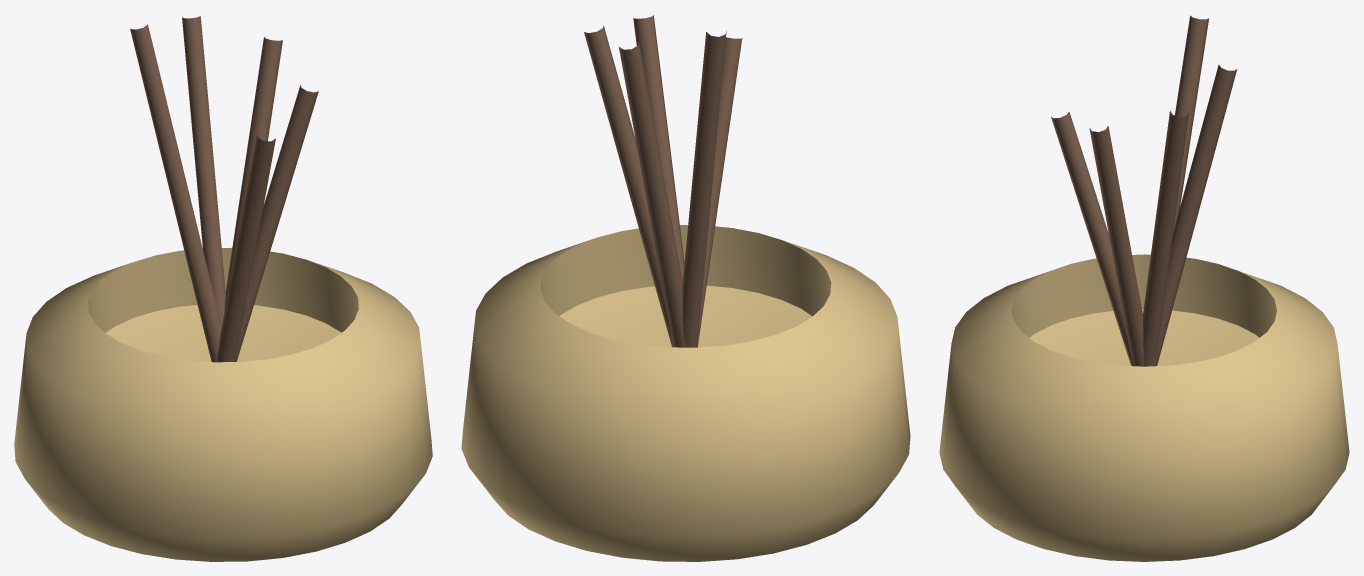
File: paranormal-investigation-house-incense-burner-bef1913e__26787.glb
3 views of the same model, side by side, from view 1: azimuth 30°, elevation 25°; view 2: azimuth 150°, elevation 25°; view 3: azimuth 270°, elevation 25° (orthographic). The views are drawn at different scales.
Parts seen in each view (by area): view 1: incense-burner; view 2: incense-burner; view 3: incense-burner.
Part boxes in pixels (box(x1,y1,x2,y2)): incense-burner: box(14, 16, 432, 561); incense-burner: box(461, 15, 910, 561); incense-burner: box(939, 15, 1349, 561).
Size of the model in its own units: 0.17 by 0.2029 by 0.17.
